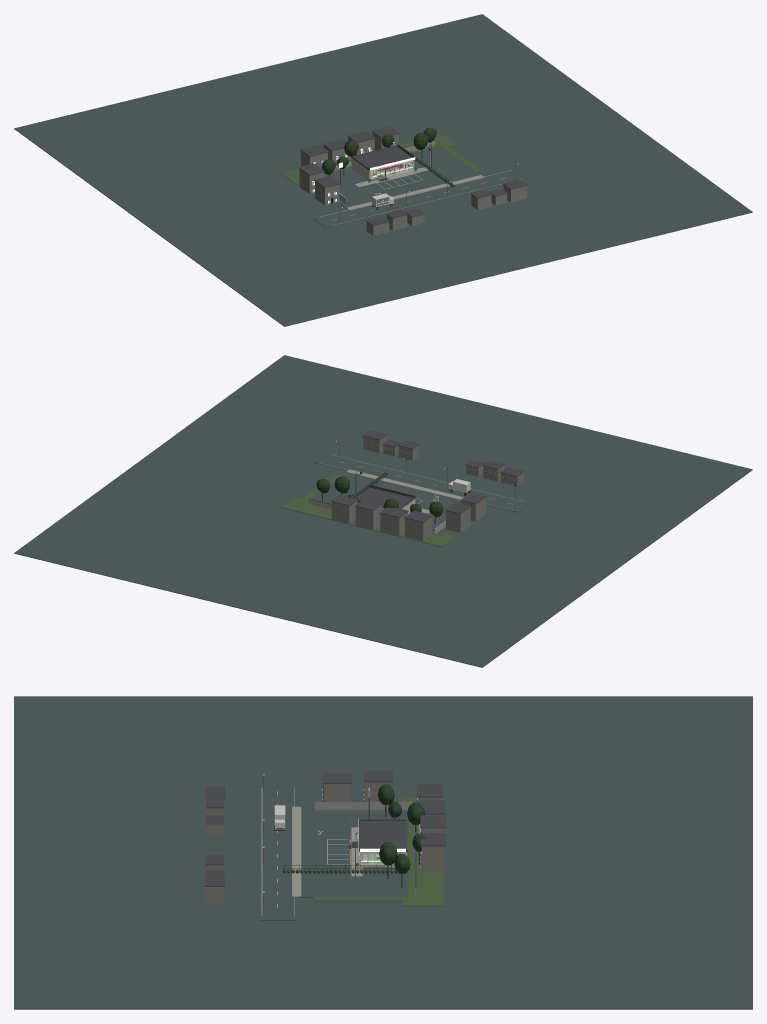
The model's file is Popuri_Store.glb.
3 renders of one model, top to bottom at view 1: azimuth 30°, elevation 25°; view 2: azimuth 150°, elevation 25°; view 3: azimuth 270°, elevation 25°, orthographic. The views are drawn at different scales.
Visible parts, largest first — view 1: Cell_0_0_Opaque, Cell_0_-1_Opaque, Cell_0_-3_Opaque, Cell_0_1_Opaque, RoofGroup_Opaque, Cell_-3_-5_Opaque, Cell_-4_-2_Opaque, Cell_-4_-1_Opaque; view 2: Cell_0_0_Opaque, Cell_0_-3_Opaque, Cell_0_-1_Opaque, Cell_0_1_Opaque, Cell_-3_1_Opaque, Cell_-1_1_Opaque, Cell_-3_-5_Opaque, Cell_-2_1_Opaque, Cell_-4_-1_Opaque, RoofGroup_Opaque; view 3: Cell_0_0_Opaque, Cell_0_-1_Opaque, Cell_0_-3_Opaque, Cell_0_1_Opaque, RoofGroup_Opaque, Cell_-4_-2_Opaque, Cell_-3_-1_Opaque, Cell_-4_-1_Opaque, Cell_3_-5_Opaque, Cell_2_-1_Opaque, Cell_-3_-5_Opaque.
Boxes of the visible parts, <box> form: Cell_0_0_Opaque: <box>14,14,752,326</box>; Cell_0_-1_Opaque: <box>324,144,479,209</box>; Cell_0_-3_Opaque: <box>313,168,530,227</box>; Cell_0_1_Opaque: <box>281,126,456,184</box>; RoofGroup_Opaque: <box>351,145,411,170</box>; Cell_-3_-5_Opaque: <box>365,209,407,235</box>; Cell_-4_-2_Opaque: <box>314,176,339,205</box>; Cell_-4_-1_Opaque: <box>299,163,324,194</box>; Cell_0_0_Opaque: <box>14,355,752,667</box>; Cell_0_-3_Opaque: <box>313,453,530,512</box>; Cell_0_-1_Opaque: <box>307,472,461,533</box>; Cell_0_1_Opaque: <box>281,494,456,546</box>; Cell_-3_1_Opaque: <box>404,510,432,541</box>; Cell_-1_1_Opaque: <box>355,499,382,530</box>; Cell_-3_-5_Opaque: <box>482,460,524,486</box>; Cell_-2_1_Opaque: <box>379,507,408,535</box>; Cell_-4_-1_Opaque: <box>445,502,471,532</box>; RoofGroup_Opaque: <box>357,486,415,508</box>; Cell_0_0_Opaque: <box>14,696,752,1009</box>; Cell_0_-1_Opaque: <box>297,807,408,897</box>; Cell_0_-3_Opaque: <box>261,783,301,920</box>; Cell_0_1_Opaque: <box>402,798,445,906</box>; RoofGroup_Opaque: <box>359,819,407,852</box>; Cell_-4_-2_Opaque: <box>322,773,351,802</box>; Cell_-3_-1_Opaque: <box>314,788,412,819</box>; Cell_-4_-1_Opaque: <box>363,771,393,802</box>; Cell_3_-5_Opaque: <box>204,874,225,904</box>; Cell_2_-1_Opaque: <box>314,873,443,901</box>; Cell_-3_-5_Opaque: <box>205,787,224,815</box>.
Size of the model in its own units: 160 by 9.25 by 160.
